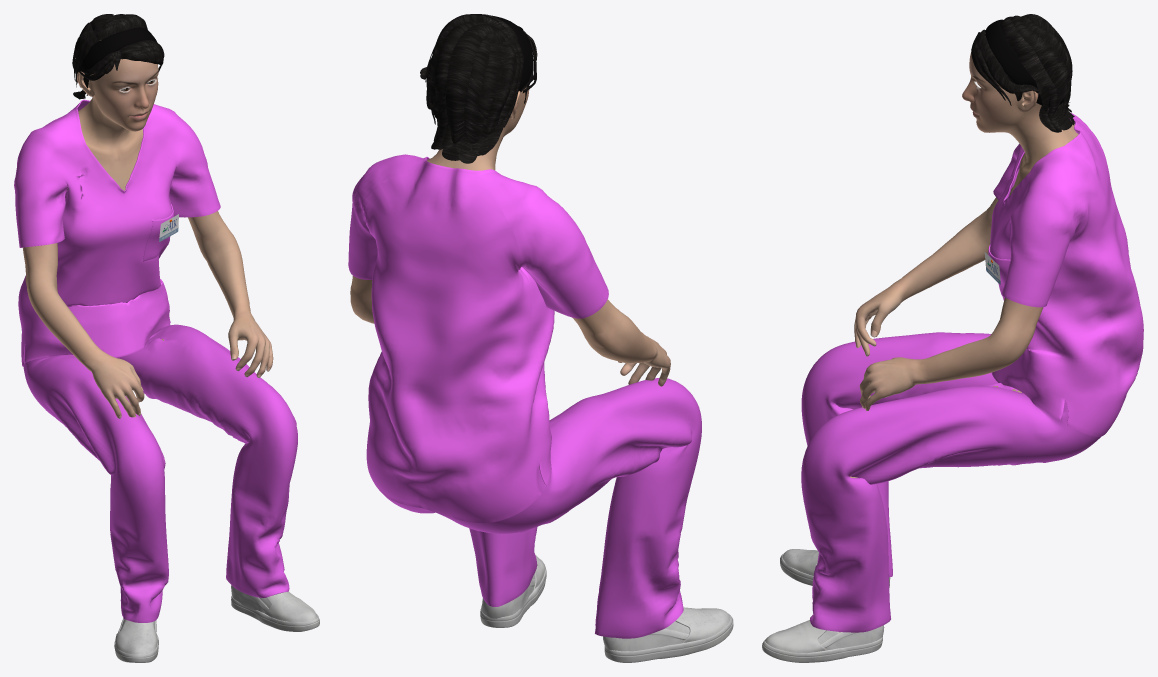
Rendered from Nurse_old.glb.
3 renders of one model, left to right at view 1: azimuth 30°, elevation 25°; view 2: azimuth 150°, elevation 25°; view 3: azimuth 270°, elevation 25°, orthographic. The views are drawn at different scales.
Parts seen in each view (by area): view 1: Shirt_default1_0.051; view 2: Shirt_default1_0.051; view 3: Shirt_default1_0.051.
Part boxes in pixels (bbox=[...]): Shirt_default1_0.051: bbox=[14, 14, 319, 662]; Shirt_default1_0.051: bbox=[348, 14, 733, 662]; Shirt_default1_0.051: bbox=[762, 14, 1143, 662].
Bounding box in the file's own units: 0.7449 × 1.82 × 1.06.
Materials: 18 (14 with a texture image).
